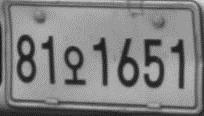1: (169, 38, 186, 89), (40, 34, 56, 86), (92, 36, 108, 87)
5: (143, 38, 164, 88)
6: (116, 36, 140, 87)
8: (15, 33, 36, 83)
오: (63, 45, 86, 86)
